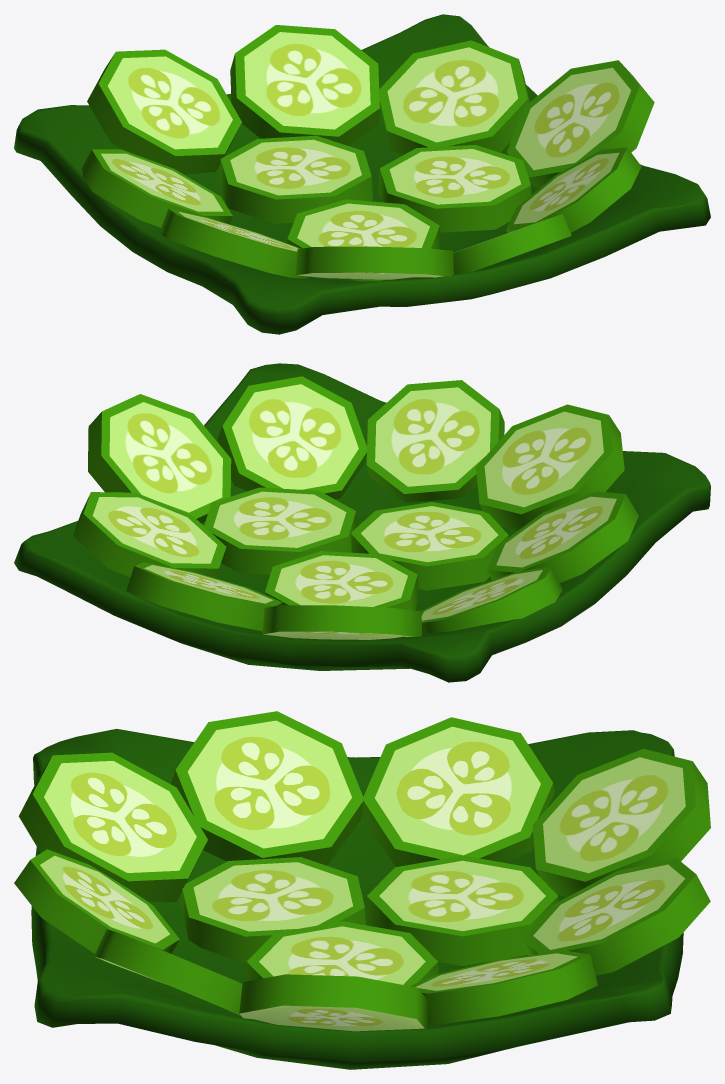
File: SM_Moss-Cucumber_Plate.fbx
3 views of the same model, one above another, from view 1: azimuth 30°, elevation 25°; view 2: azimuth 150°, elevation 25°; view 3: azimuth 270°, elevation 25° (orthographic). The views are drawn at different scales.
Parts seen in each view (by area): view 1: Moss-Cucumber_Plate; view 2: Moss-Cucumber_Plate; view 3: Moss-Cucumber_Plate.
Part boxes in pixels (x1,y1,x2,y2): Moss-Cucumber_Plate: [14, 14, 710, 334]; Moss-Cucumber_Plate: [14, 363, 710, 682]; Moss-Cucumber_Plate: [14, 711, 710, 1069].
Bounding box in the file's own units: 125 × 28.77 × 123.
